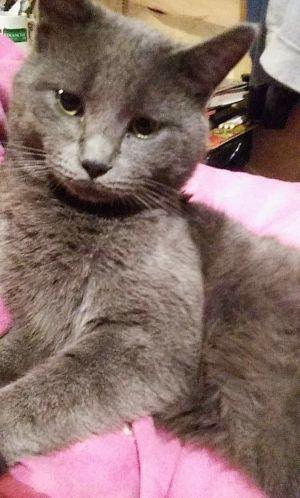rblue: (1, 1, 268, 234)
